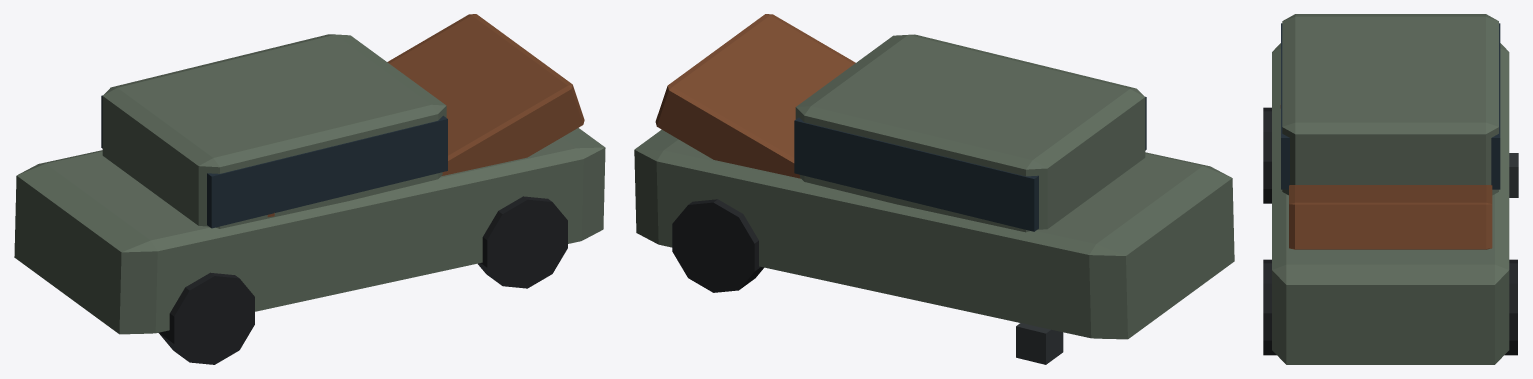
File: Car_Wreck.fbx
3 renders of one model, left to right at view 1: azimuth 30°, elevation 25°; view 2: azimuth 150°, elevation 25°; view 3: azimuth 270°, elevation 25°, orthographic. The views are drawn at different scales.
Parts seen in each view (by area): view 1: Car_Wreck; view 2: Car_Wreck; view 3: Car_Wreck.
Boxes of the visible parts, box(x1,y1,x2,y2) form: Car_Wreck: box(14, 14, 605, 364); Car_Wreck: box(634, 14, 1234, 364); Car_Wreck: box(1263, 14, 1518, 364).
Size of the model in its own units: 4.12 by 1.55 by 1.88.
